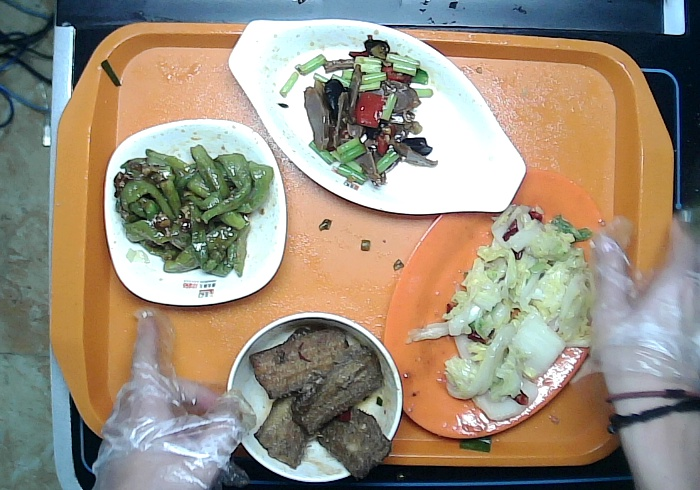NLDX-Bai_Se_Xiao_Fang_Die: (104, 118, 287, 305)
NLDX-Fan_Wan: (227, 312, 403, 481)
NLDX-Ju_Se_Pan: (382, 167, 604, 440)
NLDX-Yu_Pan: (228, 19, 527, 215)
